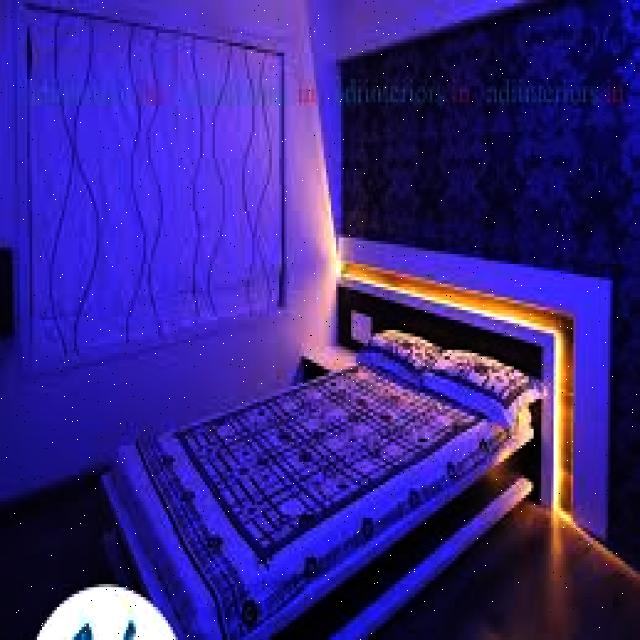bed: (109, 326, 547, 614)
